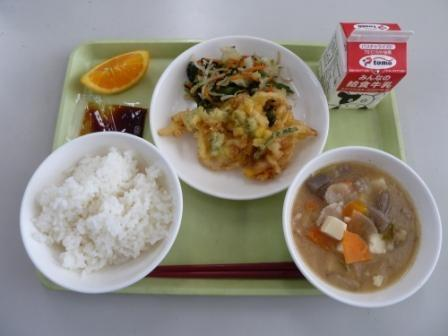Citrus: (77, 42, 158, 98)
Milk: (318, 14, 416, 111)
Rice: (20, 141, 186, 276)
Salad: (182, 43, 291, 99)
Soups: (289, 156, 433, 296)
cooked food based on meat: (164, 101, 313, 182)
